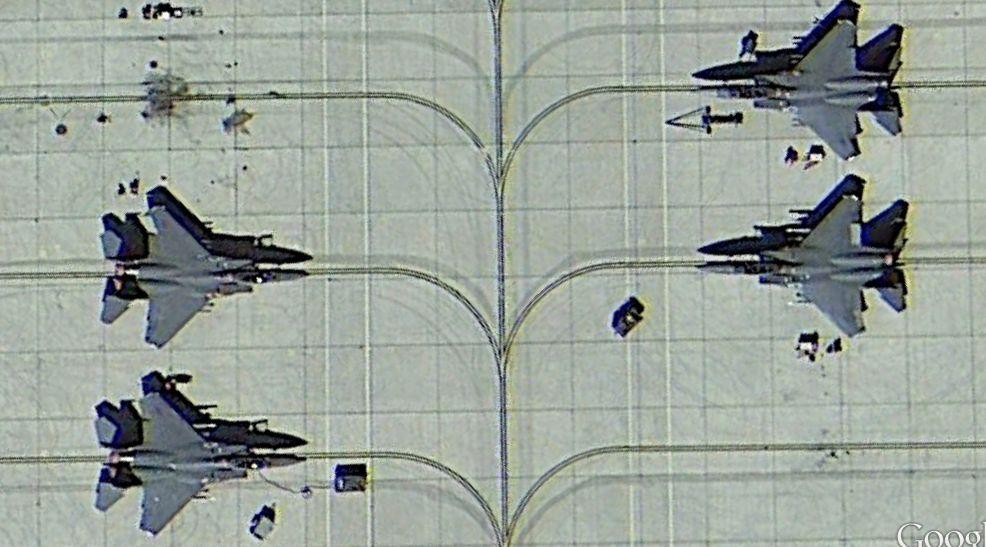F-15: (87, 200, 308, 350), (701, 189, 917, 342), (87, 392, 316, 534), (700, 15, 908, 160)
